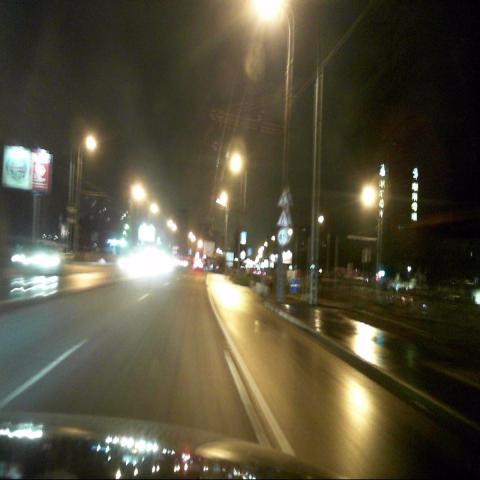1_20_3: (276, 209, 289, 227)
1_25: (278, 187, 290, 208)
